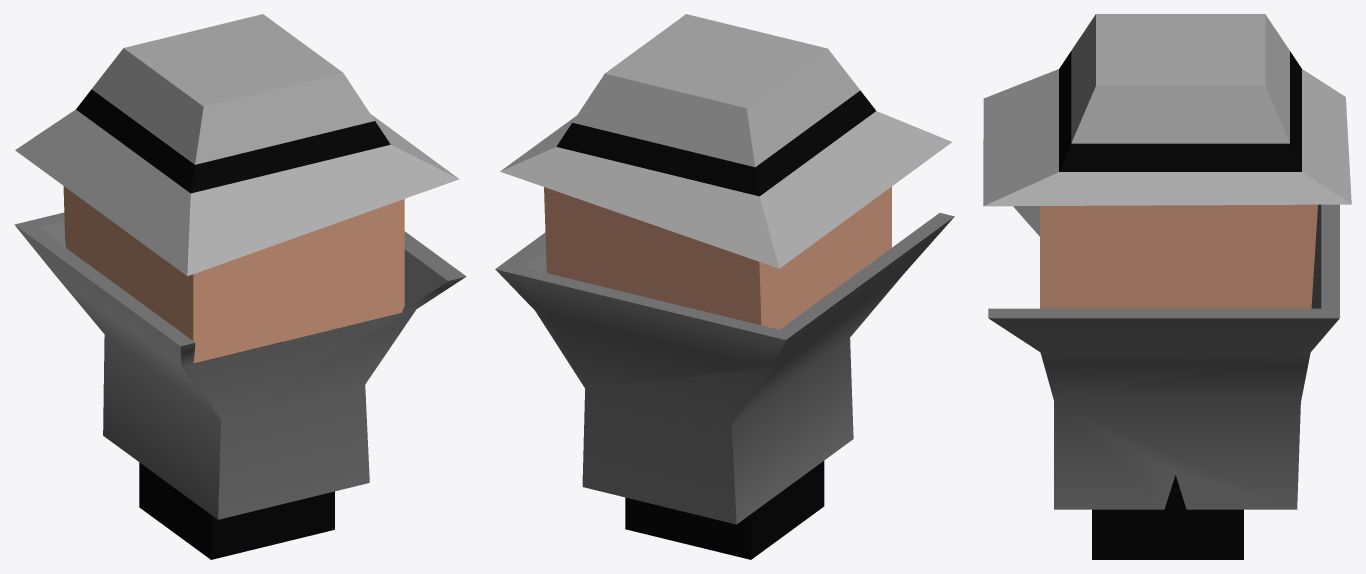
The model's file is detective.fbx.
The picture shows the model from 3 angles, left to right: view 1: azimuth 30°, elevation 25°; view 2: azimuth 150°, elevation 25°; view 3: azimuth 270°, elevation 25°; orthographic projection. The views are drawn at different scales.
Parts seen in each view (by area): view 1: low_poly_charecter:low_poly_charecter:polySurface104; view 2: low_poly_charecter:low_poly_charecter:polySurface104; view 3: low_poly_charecter:low_poly_charecter:polySurface104.
Part boxes in pixels (<box>): low_poly_charecter:low_poly_charecter:polySurface104: <box>14,14,466,559</box>; low_poly_charecter:low_poly_charecter:polySurface104: <box>495,14,954,559</box>; low_poly_charecter:low_poly_charecter:polySurface104: <box>983,14,1351,559</box>.
Bounding box in the file's own units: 2.24 × 3.4 × 2.37.
